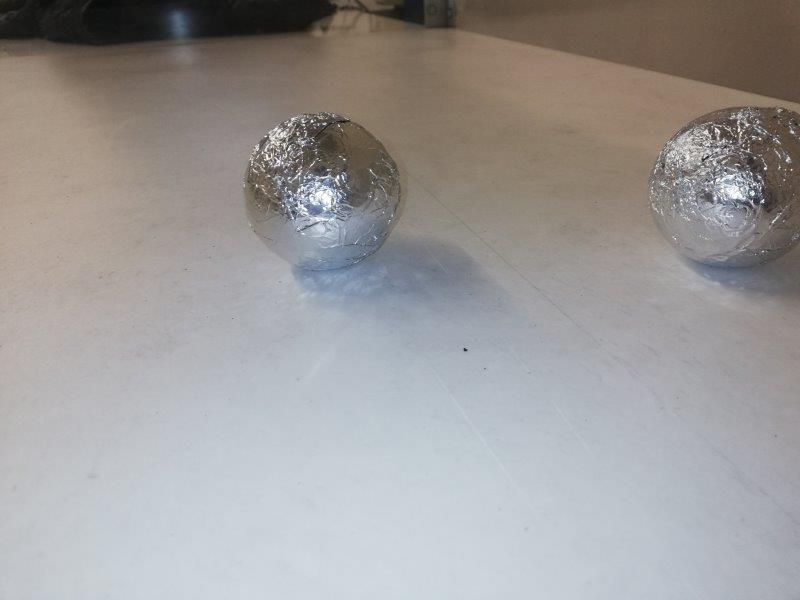bianca: (241, 111, 403, 272), (647, 105, 800, 271)
